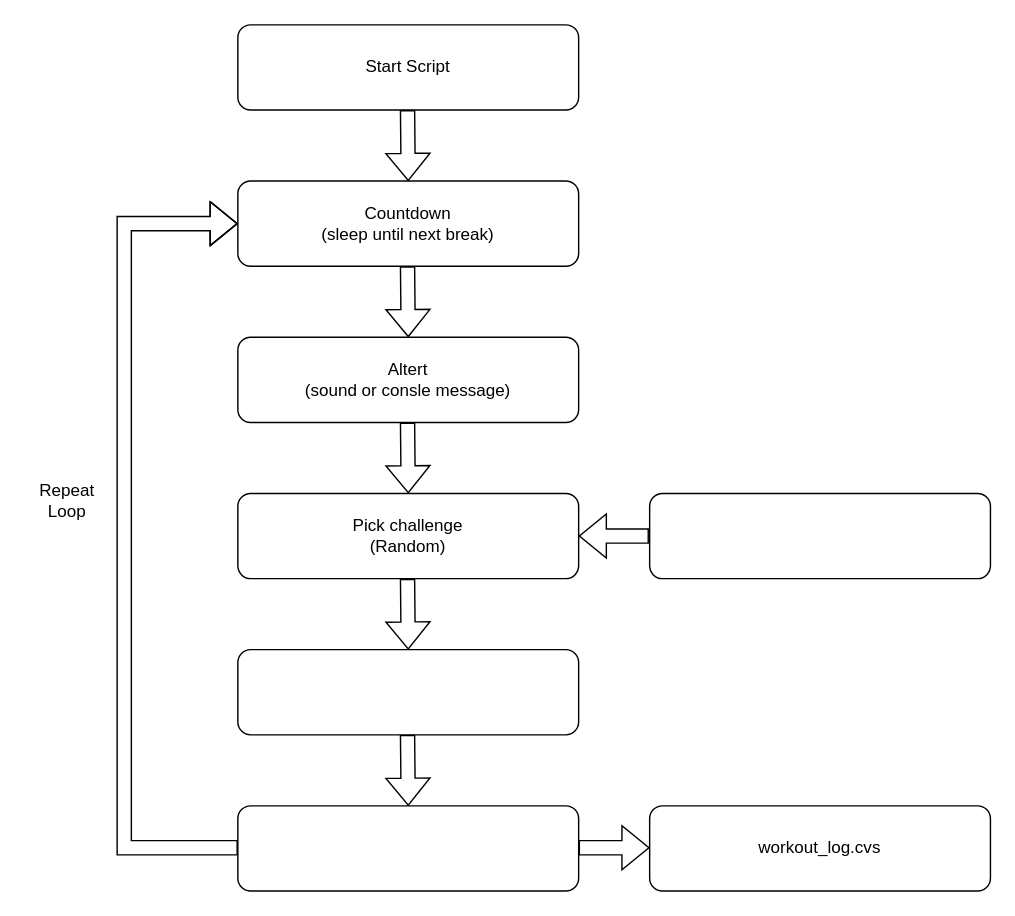
The diagram is 1015 pixels wide and 916 high, and some of its shapes have lost their labels. Each missing label, with the centre of its shape:
"Confirmation (wait for Enter Key)" belongs at point 407,691.
"Log result (append date and workout)" belongs at point 407,847.
"Workouts (in script)" belongs at point 819,535.
